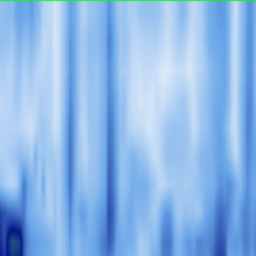defect: (1, 207, 25, 256)
